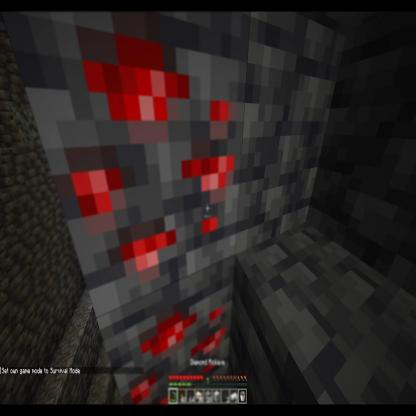redstone ore: (13, 0, 242, 307), (99, 258, 238, 416)
